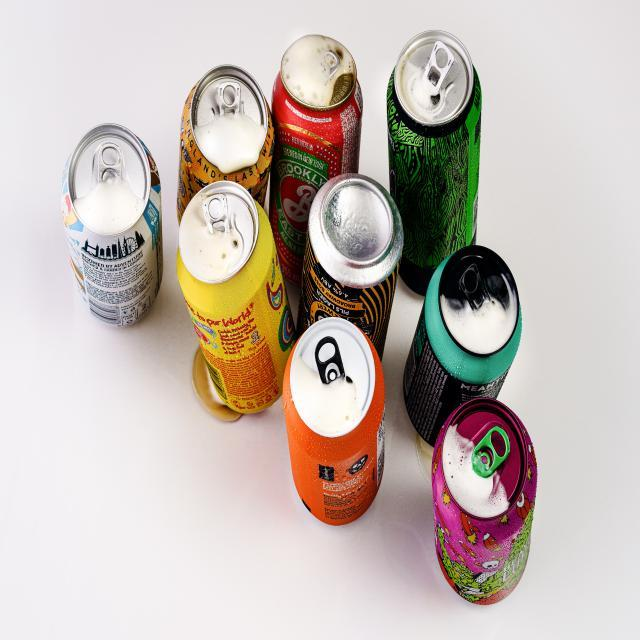can: (392, 358, 566, 588), (258, 290, 396, 524), (380, 18, 506, 274), (254, 179, 370, 421), (45, 96, 170, 310), (410, 239, 540, 387), (183, 61, 275, 182), (287, 30, 367, 160)
